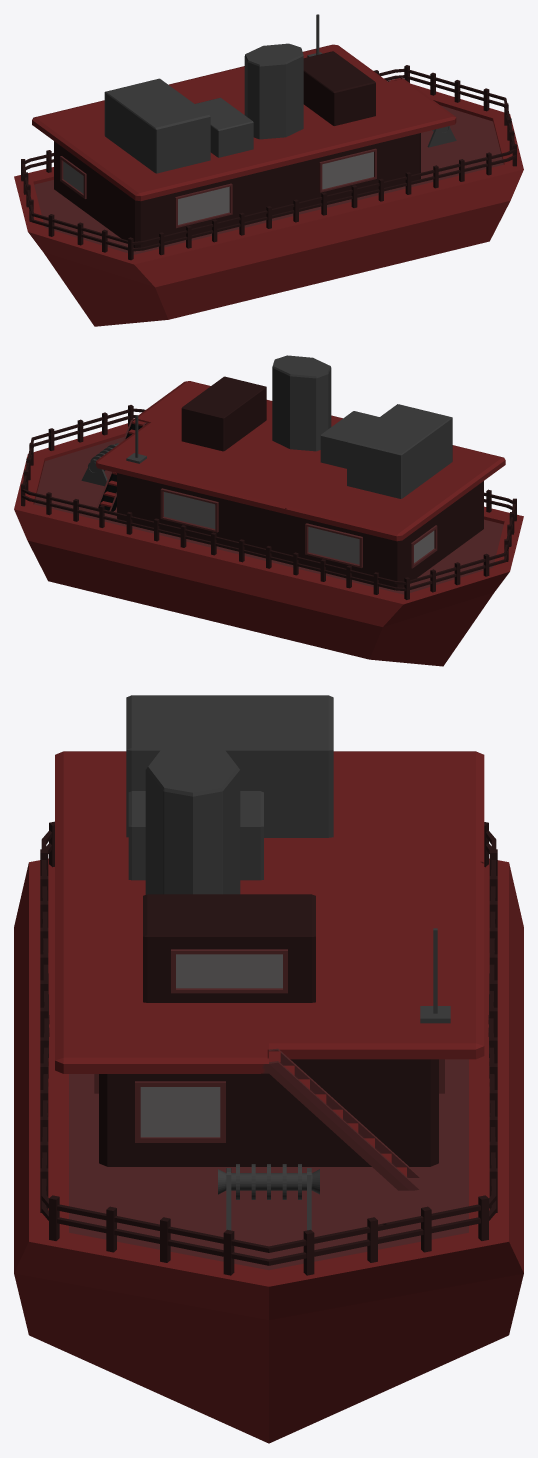
Rendered from RedShip.fbx.
3 views of the same model, one above another, from view 1: azimuth 30°, elevation 25°; view 2: azimuth 150°, elevation 25°; view 3: azimuth 270°, elevation 25° (orthographic). The views are drawn at different scales.
Parts seen in each view (by area): view 1: RedShip; view 2: RedShip; view 3: RedShip.
Part boxes in pixels (box(x1,y1,x2,y2)): RedShip: box(14, 14, 523, 326); RedShip: box(14, 355, 523, 666); RedShip: box(14, 695, 523, 1443).
Bounding box in the file's own units: 3613 × 1771 × 1658.
